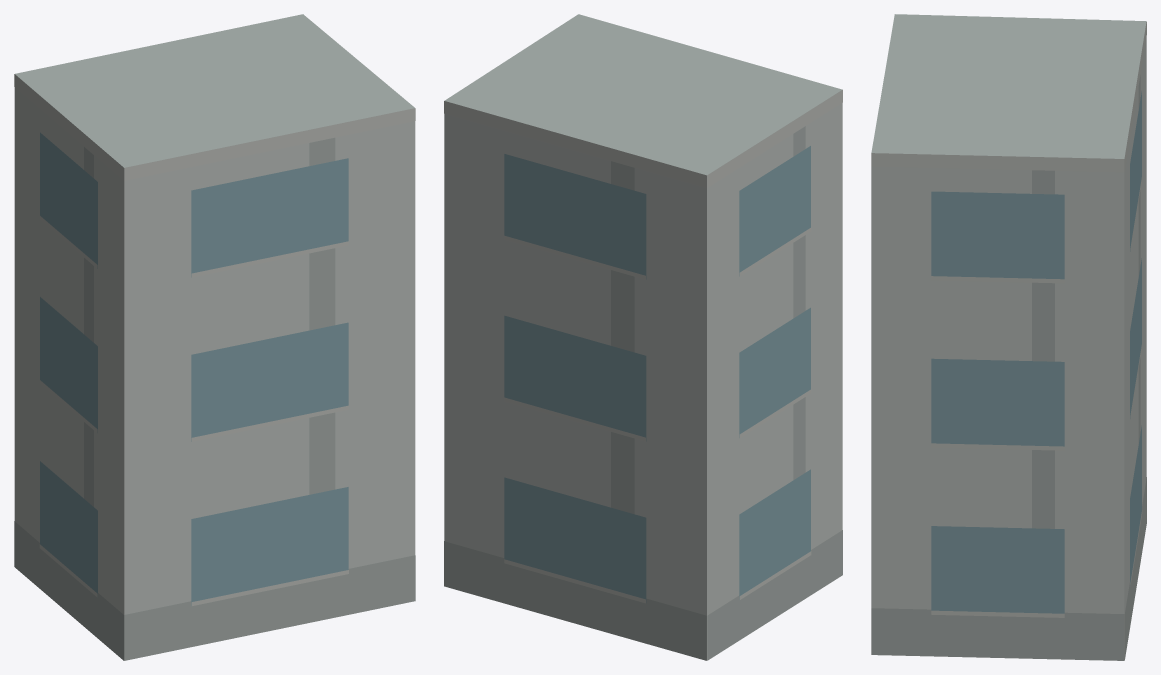
The model's file is survey-upis-32538376.glb.
3 renders of one model, left to right at view 1: azimuth 30°, elevation 25°; view 2: azimuth 150°, elevation 25°; view 3: azimuth 270°, elevation 25°, orthographic. The views are drawn at different scales.
Parts seen in each view (by area): view 1: survey-upis-32538376.tmp; view 2: survey-upis-32538376.tmp; view 3: survey-upis-32538376.tmp.
Boxes of the visible parts, bbox=[...] form: survey-upis-32538376.tmp: bbox=[14, 14, 415, 660]; survey-upis-32538376.tmp: bbox=[444, 14, 842, 660]; survey-upis-32538376.tmp: bbox=[871, 14, 1146, 660].
Bounding box in the file's own units: 5.68 × 9.15 × 4.56.
